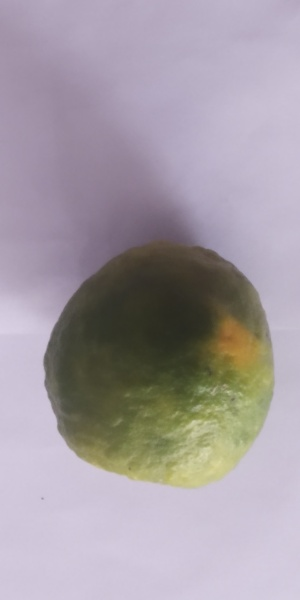BAD: (35, 236, 281, 487)
